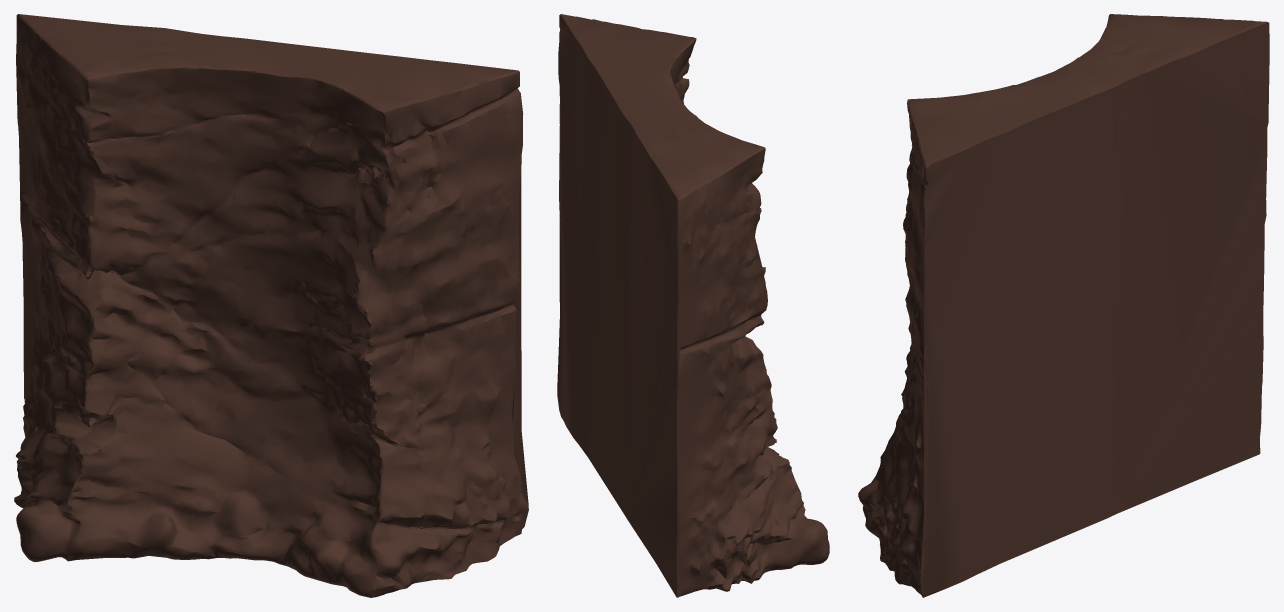
The model's file is Wall_Ben_90Out.fbx.
3 views of the same model, side by side, from view 1: azimuth 30°, elevation 25°; view 2: azimuth 150°, elevation 25°; view 3: azimuth 270°, elevation 25° (orthographic). The views are drawn at different scales.
Parts seen in each view (by area): view 1: Wall_Ben_90Out; view 2: Wall_Ben_90Out; view 3: Wall_Ben_90Out.
Boxes of the visible parts, left/top/right/bottom form: Wall_Ben_90Out: left=14, top=14, right=528, bottom=597; Wall_Ben_90Out: left=557, top=14, right=829, bottom=597; Wall_Ben_90Out: left=858, top=14, right=1269, bottom=597.
Size of what is drawn, in the model's own units: 1389 by 1541 by 1303.
Materials: 1 (1 with a texture image).
